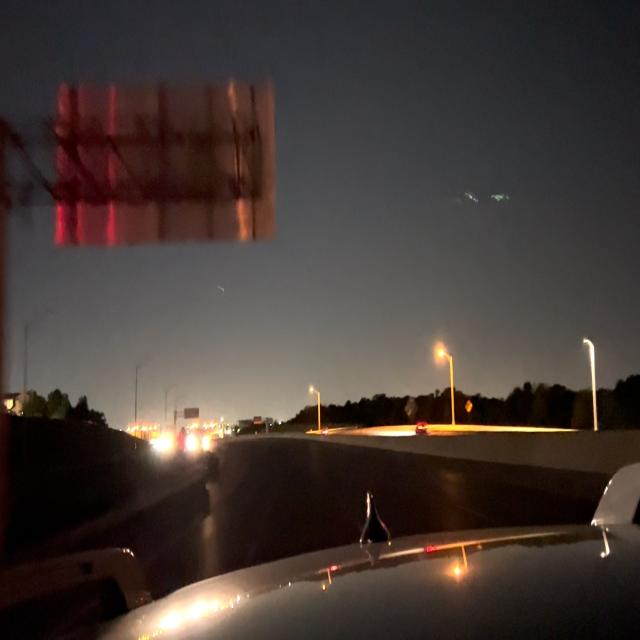back-of-sign: (59, 87, 275, 241)
